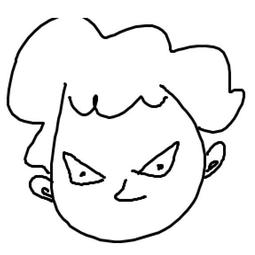ear: (203, 136, 228, 180), (27, 173, 53, 205)
eye: (135, 137, 183, 180), (60, 150, 107, 188)
pointy_nose: (110, 177, 149, 208)
